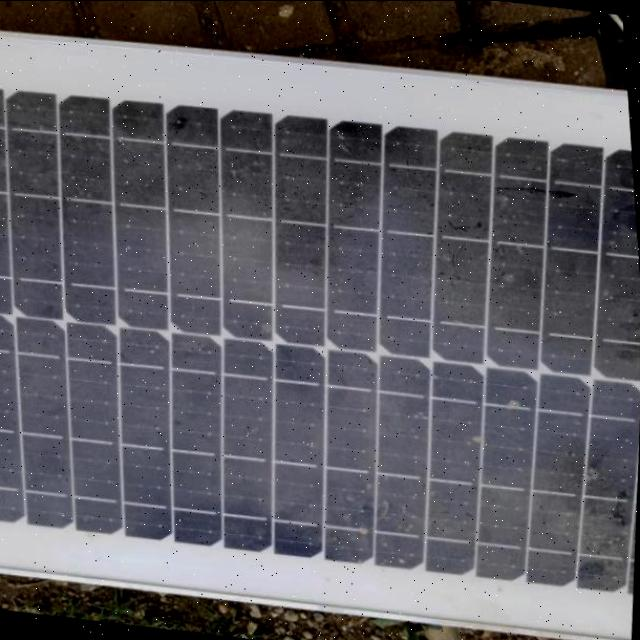Surface Contaminant: (0, 87, 640, 618)
